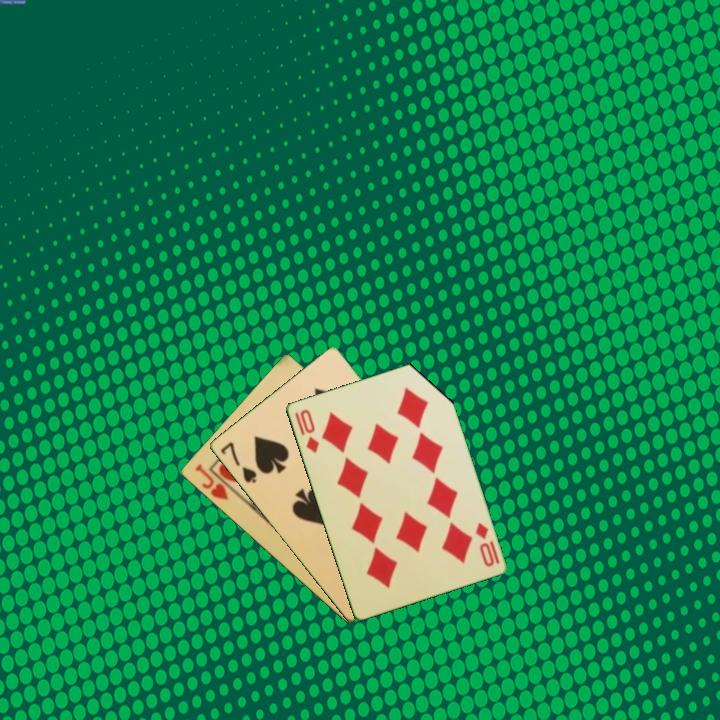10d: (291, 405, 322, 456), (471, 519, 502, 570)
7s: (216, 438, 259, 486)
Jh: (191, 460, 231, 503)
